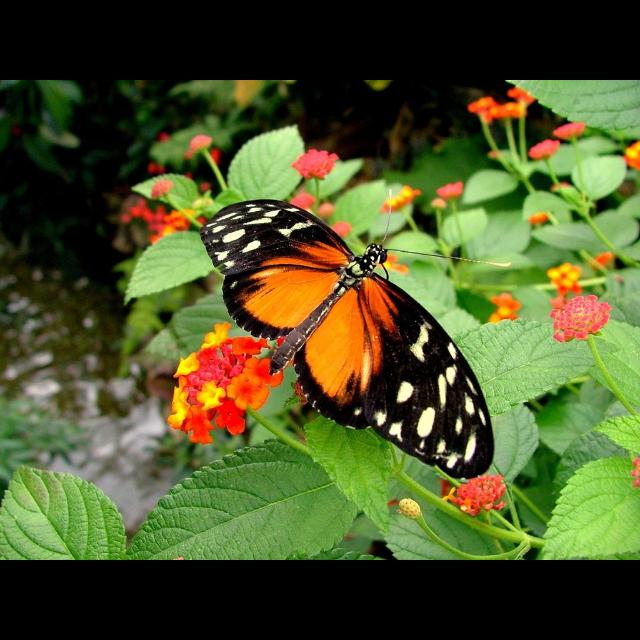Flower: (168, 322, 282, 446), (120, 199, 192, 243), (551, 292, 611, 342), (440, 474, 504, 516), (292, 148, 334, 178), (488, 290, 522, 324), (547, 262, 581, 292), (384, 184, 420, 210), (376, 253, 410, 274), (467, 96, 495, 120), (527, 140, 559, 158), (492, 104, 528, 118), (622, 140, 640, 168), (507, 88, 537, 104), (553, 122, 585, 136), (437, 181, 463, 197), (291, 193, 315, 207), (630, 457, 640, 489), (333, 218, 349, 236), (152, 182, 172, 196), (526, 210, 548, 222), (191, 135, 209, 149), (317, 200, 333, 214), (594, 251, 610, 265)
